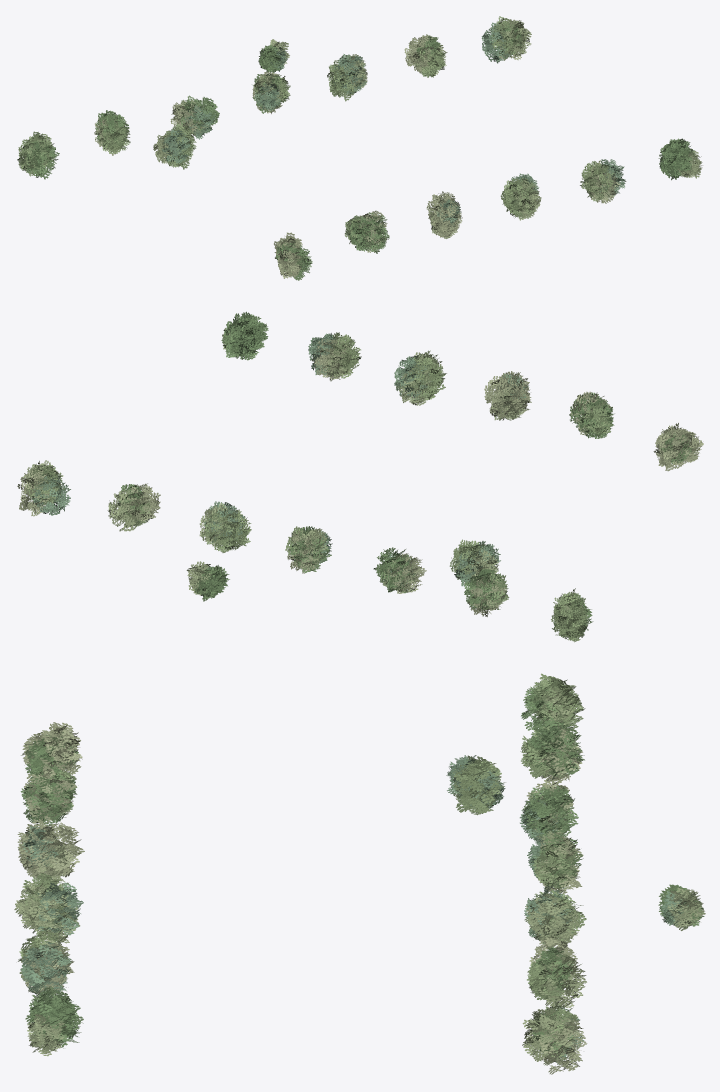
File: campus-tree-1_-1-near.glb
3 renders of one model, top to bottom at view 1: azimuth 30°, elevation 25°; view 2: azimuth 150°, elevation 25°; view 3: azimuth 270°, elevation 25°, orthographic. The views are drawn at different scales.
Visible parts, largest first — view 1: Campus leaf canopy; view 2: Campus leaf canopy; view 3: Campus leaf canopy.
Boxes of the visible parts, x1,y1,x2,y2 form: Campus leaf canopy: (17,16,702,280); Campus leaf canopy: (17,311,703,642); Campus leaf canopy: (14,673,705,1074).
Size of the model in its own units: 72.91 by 7.92 by 59.61.
Materials: 1 (1 with a texture image).
